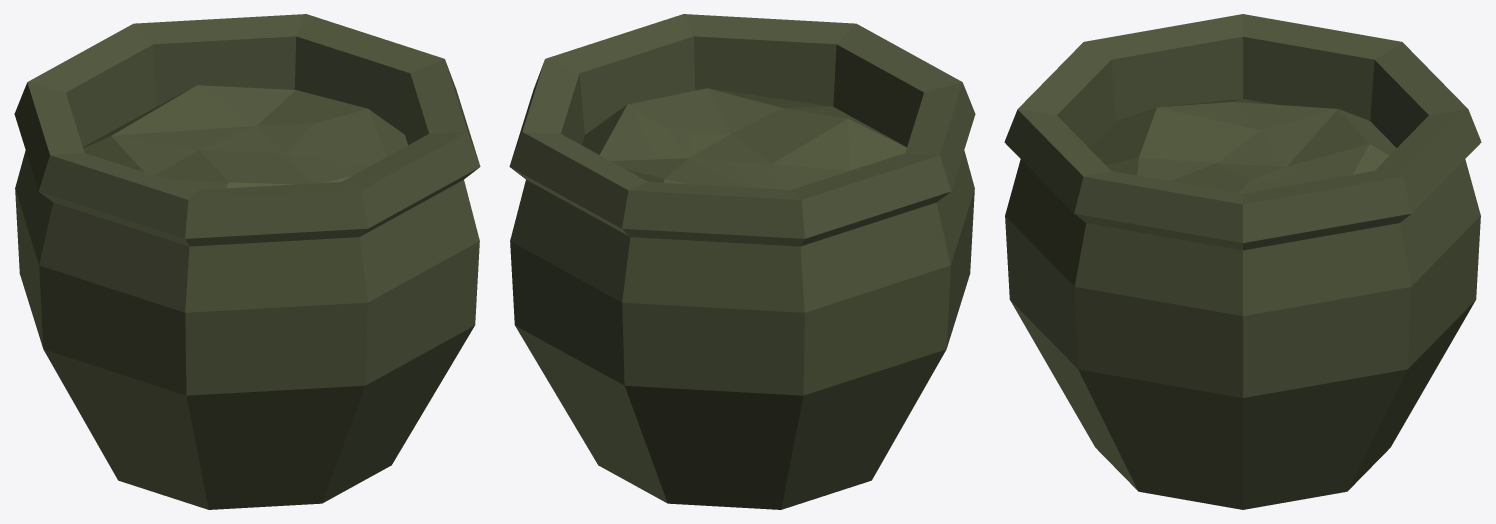
Rendered from kingdom_SM_Env_Planter_Pot_07.gltf.
3 views of the same model, side by side, from view 1: azimuth 30°, elevation 25°; view 2: azimuth 150°, elevation 25°; view 3: azimuth 270°, elevation 25° (orthographic).
Visible parts, largest first — view 1: SM_Env_Planter_Pot_07; view 2: SM_Env_Planter_Pot_07; view 3: SM_Env_Planter_Pot_07.
Boxes of the visible parts, box(x1,y1,x2,y2) form: SM_Env_Planter_Pot_07: box(14, 14, 480, 509); SM_Env_Planter_Pot_07: box(509, 14, 975, 509); SM_Env_Planter_Pot_07: box(1004, 14, 1481, 509).
Size of the model in its own units: 0.4221 by 0.3301 by 0.4221.
Materials: 1 (1 with a texture image).
